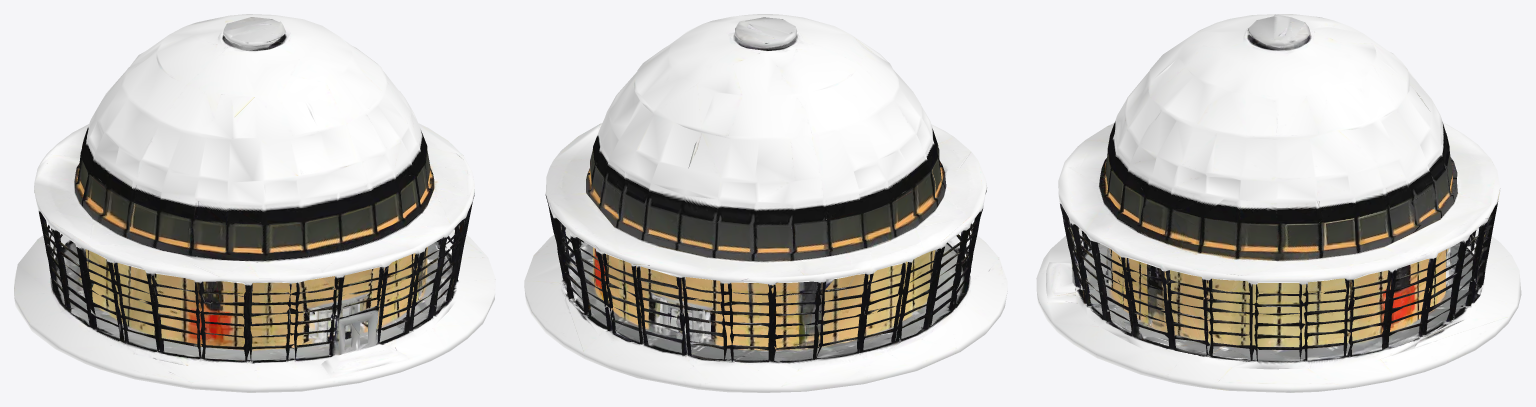
The model's file is c_science.glb.
3 renders of one model, left to right at view 1: azimuth 30°, elevation 25°; view 2: azimuth 150°, elevation 25°; view 3: azimuth 270°, elevation 25°, orthographic.
Size of the model in its own units: 1.91 by 1.14 by 1.91.
Materials: 1 (1 with a texture image).
